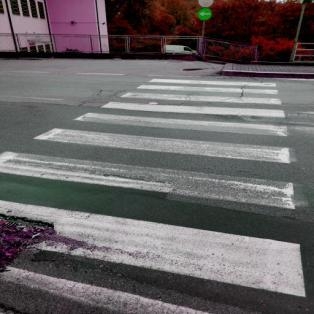Paso de Cebra: (30, 110, 298, 170), (130, 76, 284, 96)
